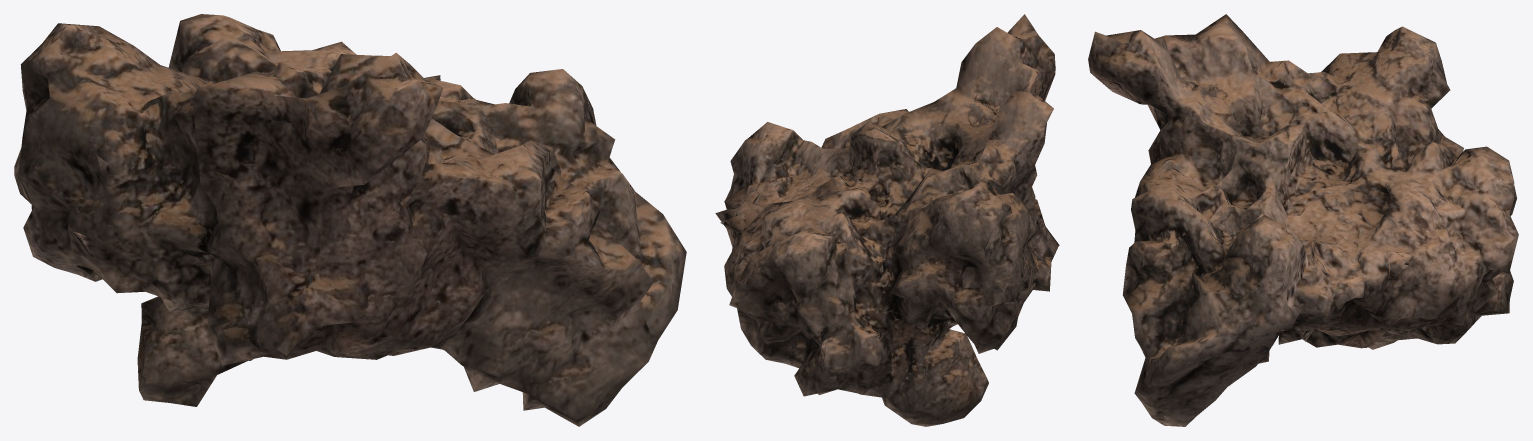
File: mars-rock-aa-jagged.glb
The picture shows the model from 3 angles, left to right: view 1: azimuth 30°, elevation 25°; view 2: azimuth 150°, elevation 25°; view 3: azimuth 270°, elevation 25°; orthographic projection. The views are drawn at different scales.
Visible parts, largest first — view 1: mars-rock-aa-jagged_LOD0; view 2: mars-rock-aa-jagged_LOD0; view 3: mars-rock-aa-jagged_LOD0.
Boxes of the visible parts, x1,y1,x2,y2 form: mars-rock-aa-jagged_LOD0: (14, 14, 686, 426); mars-rock-aa-jagged_LOD0: (715, 14, 1059, 426); mars-rock-aa-jagged_LOD0: (1088, 14, 1518, 426).
Size of what is drawn, in the model's own units: 1.49 by 1.24 by 1.45.
1 material, 1 textured.
